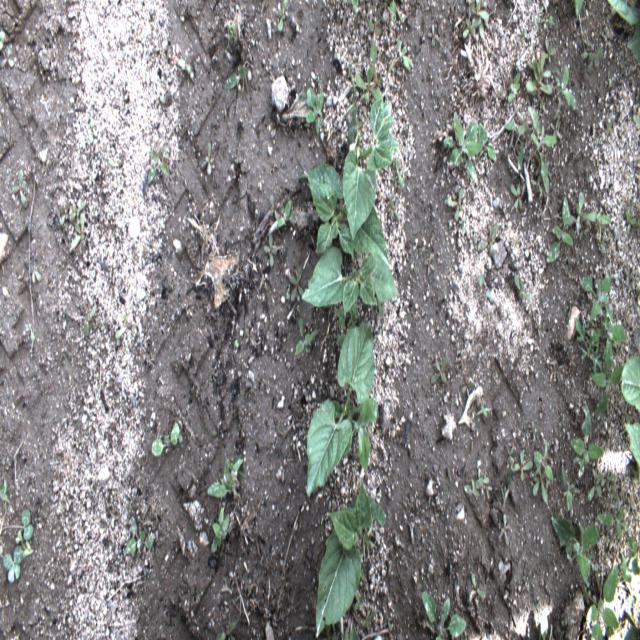crop: (305, 320, 378, 497), (316, 476, 386, 638), (299, 164, 391, 265), (342, 98, 398, 242), (300, 246, 401, 319), (621, 357, 640, 487), (606, 0, 639, 66)
weed: (549, 512, 599, 590), (442, 117, 484, 188), (526, 106, 558, 194), (570, 406, 605, 482), (586, 563, 619, 639), (422, 591, 467, 638), (0, 479, 33, 542), (546, 195, 574, 262), (592, 368, 625, 420), (596, 486, 627, 540), (206, 452, 243, 497), (525, 49, 552, 107), (575, 318, 603, 372), (603, 308, 627, 371), (578, 276, 612, 318), (125, 514, 157, 556), (150, 421, 182, 459), (504, 120, 527, 170), (615, 536, 639, 582), (210, 504, 230, 555), (353, 68, 383, 102), (554, 64, 576, 110), (146, 145, 171, 184), (532, 451, 550, 504), (294, 318, 318, 356), (582, 208, 612, 238), (476, 122, 497, 164), (534, 438, 554, 482), (306, 86, 324, 134), (388, 40, 413, 74), (570, 192, 589, 236), (562, 466, 580, 512), (471, 0, 491, 41), (3, 545, 24, 584), (510, 448, 532, 482), (12, 169, 29, 210), (446, 187, 466, 221), (477, 224, 498, 256), (221, 66, 248, 90), (71, 212, 87, 251), (580, 46, 602, 74), (287, 266, 304, 302), (276, 200, 297, 228), (588, 467, 605, 501), (429, 354, 448, 384), (83, 298, 97, 336), (200, 140, 215, 175), (497, 472, 511, 508), (469, 572, 485, 601), (215, 619, 238, 639), (462, 17, 482, 40), (59, 200, 76, 227), (514, 273, 530, 301), (264, 234, 277, 268), (275, 0, 289, 31), (0, 42, 14, 72), (498, 512, 510, 547), (510, 184, 525, 212), (474, 477, 492, 500), (369, 41, 379, 82), (388, 195, 402, 224), (600, 468, 617, 490), (508, 73, 520, 103), (625, 205, 637, 235), (343, 618, 360, 639), (479, 275, 492, 302), (361, 610, 376, 631), (29, 261, 42, 285), (424, 253, 436, 279), (427, 22, 439, 47), (550, 116, 562, 141), (462, 377, 476, 398), (268, 195, 280, 219), (464, 478, 479, 497), (543, 44, 557, 64), (334, 309, 346, 330), (368, 18, 382, 36), (396, 158, 404, 189), (477, 402, 491, 417), (355, 592, 364, 612), (575, 0, 583, 19)
